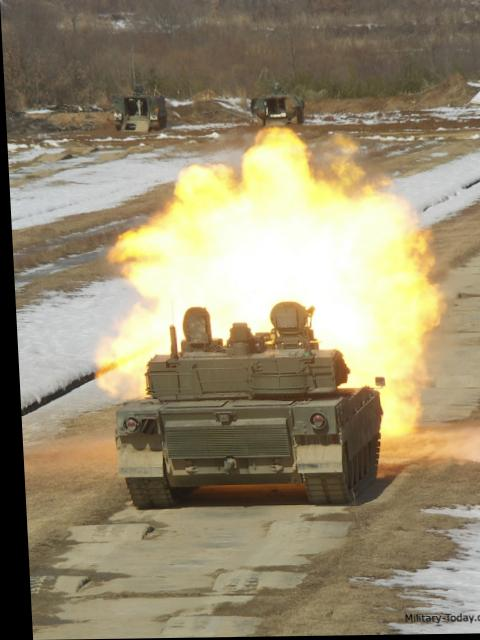tank: (108, 295, 397, 519)
